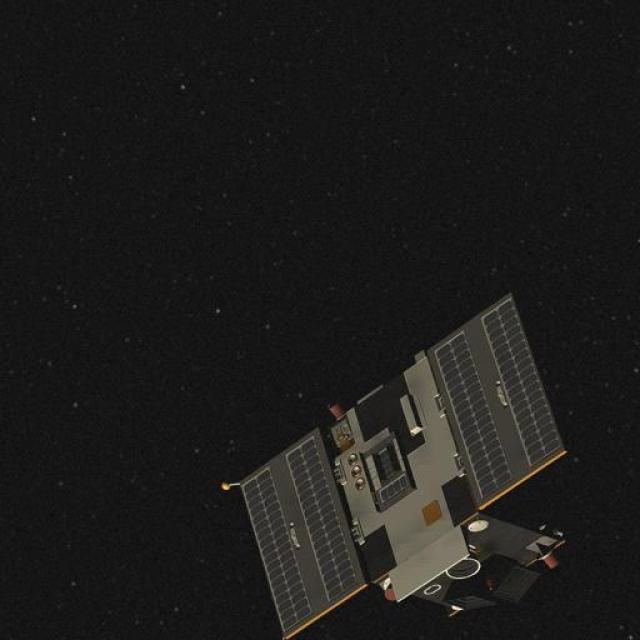proba_2: (233, 279, 565, 640)
